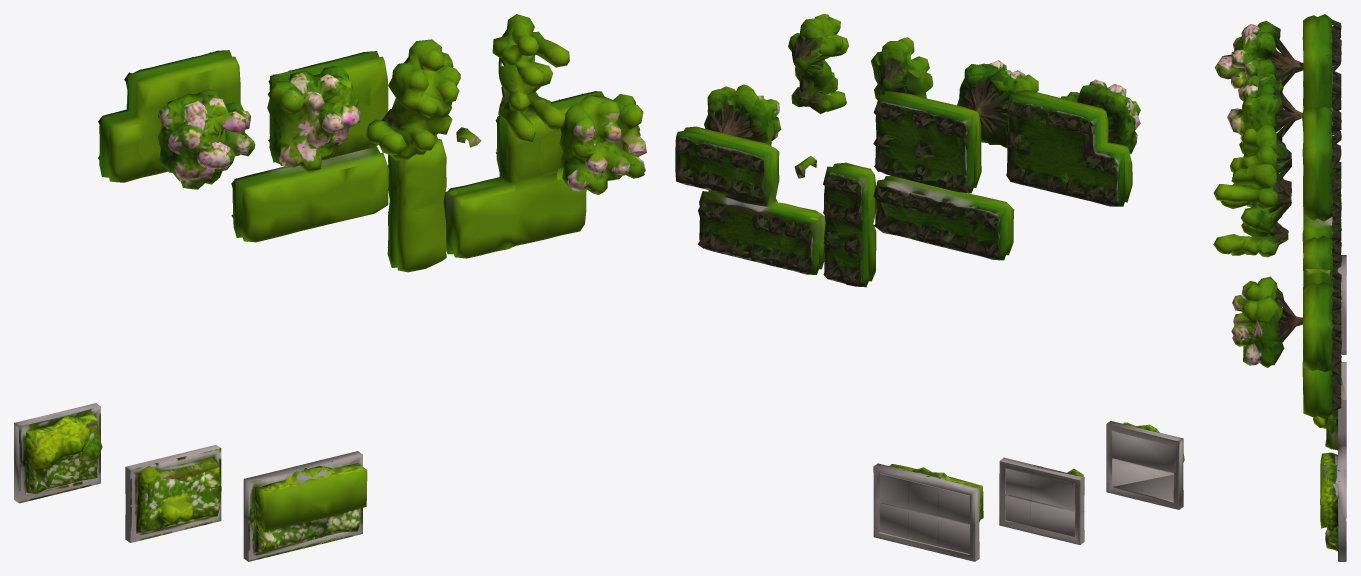
The model's file is kusty.glb.
3 views of the same model, side by side, from view 1: azimuth 30°, elevation 25°; view 2: azimuth 150°, elevation 25°; view 3: azimuth 270°, elevation 25° (orthographic). The views are drawn at different scales.
Parts seen in each view (by area): view 1: kusty_ugol, kusty_para, kust_na_podlozhke, cvetnik_3, bordur_dlinny, cvetnik_2, cvetnik_1, bordur_korotky; view 2: kusty_ugol, kusty_para, kust_na_podlozhke, cvetnik_3, bordur_dlinny, bordur_korotky, cvetnik_2, cvetnik_1; view 3: kusty_ugol, kusty_para, kust_na_podlozhke, cvetnik_3, bordur_korotky, cvetnik_2, bordur_dlinny, cvetnik_1.
Part boxes in pixels (x1,y1,x2,y2): kusty_ugol: (443, 14, 646, 258); kusty_para: (267, 39, 460, 172); kust_na_podlozhke: (98, 50, 255, 189); cvetnik_3: (243, 451, 367, 561); bordur_dlinny: (231, 146, 388, 242); cvetnik_2: (125, 445, 221, 542); cvetnik_1: (14, 403, 102, 503); bordur_korotky: (387, 135, 446, 272); kusty_ugol: (675, 14, 848, 274); kusty_para: (871, 37, 1038, 193); kust_na_podlozhke: (1006, 79, 1140, 206); cvetnik_3: (873, 463, 983, 561); bordur_dlinny: (873, 176, 1014, 260); bordur_korotky: (823, 162, 876, 287); cvetnik_2: (999, 457, 1084, 544); cvetnik_1: (1106, 421, 1184, 509); kusty_ugol: (1213, 164, 1341, 418); kusty_para: (1227, 73, 1341, 221); kust_na_podlozhke: (1214, 14, 1341, 122); cvetnik_3: (1320, 446, 1346, 561); bordur_korotky: (1303, 235, 1341, 314); cvetnik_2: (1313, 362, 1346, 450); bordur_dlinny: (1302, 181, 1341, 269); cvetnik_1: (1332, 255, 1346, 354).
Size of the model in its own units: 13.08 by 11.33 by 3.06.
1 material, 1 textured.
